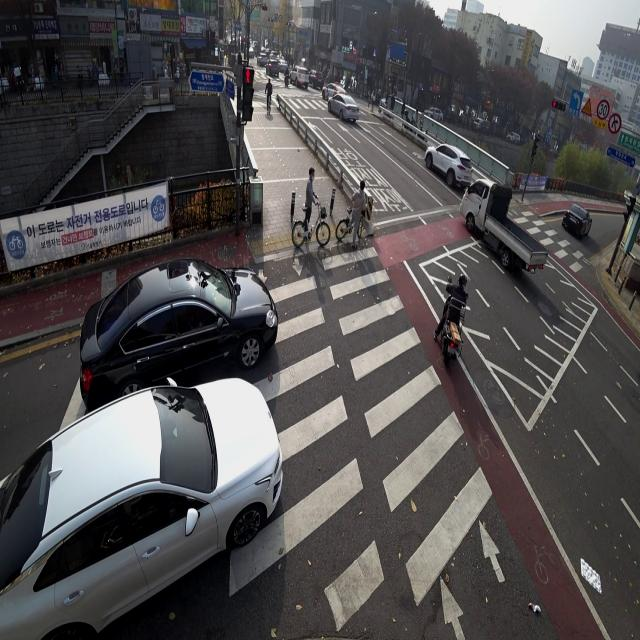Car: (0, 348, 281, 640), (76, 261, 280, 387), (425, 124, 470, 188), (562, 197, 595, 245), (324, 89, 358, 124), (290, 62, 307, 87), (324, 79, 342, 98), (264, 58, 278, 74), (312, 70, 322, 88)
Motorcycle: (432, 266, 468, 366), (284, 66, 290, 87)
Truck: (461, 171, 546, 282)
